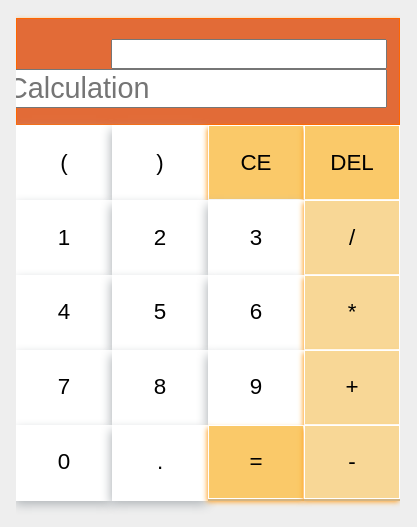
Calculator Tests › Test if when you click on a button - and there is nothing in the input so far - will be added › (button)- 1st
Step 1. Click the button "-" → (352, 462), box [304, 425, 400, 499]
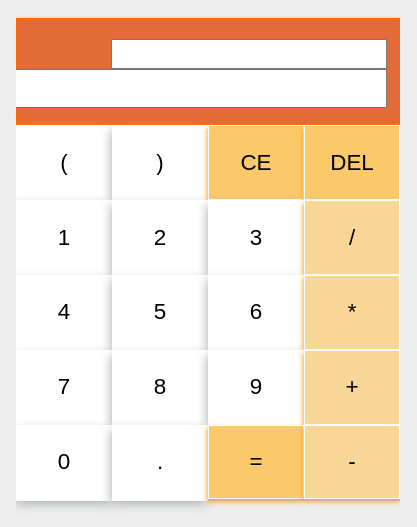
Expected: the 2nd field holds "-", [16, 69, 387, 108]
